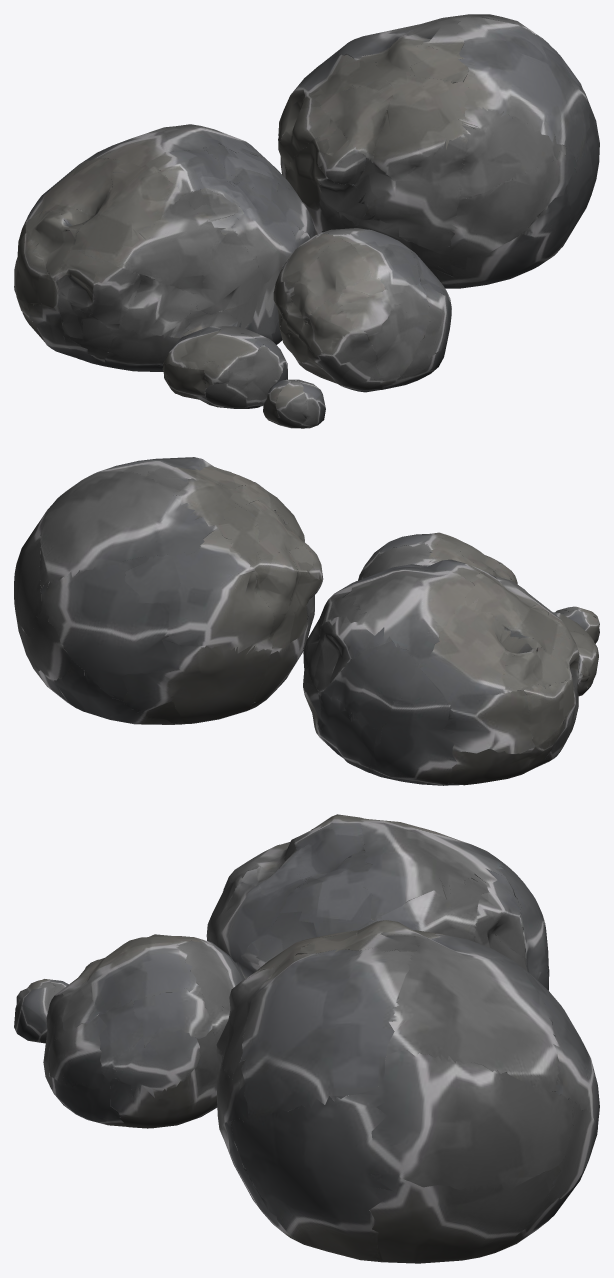
The model's file is boulder_3.glb.
3 renders of one model, top to bottom at view 1: azimuth 30°, elevation 25°; view 2: azimuth 150°, elevation 25°; view 3: azimuth 270°, elevation 25°, orthographic. The views are drawn at different scales.
Visible parts, largest first — view 1: Mesh_0.001; view 2: Mesh_0.001; view 3: Mesh_0.001.
Boxes of the visible parts, box(x1,y1,x2,y2) form: Mesh_0.001: box(14, 14, 599, 428); Mesh_0.001: box(14, 457, 599, 785); Mesh_0.001: box(14, 814, 599, 1263).
Bounding box in the file's own units: 1.58 × 0.5861 × 1.19.
Materials: 1 (1 with a texture image).
